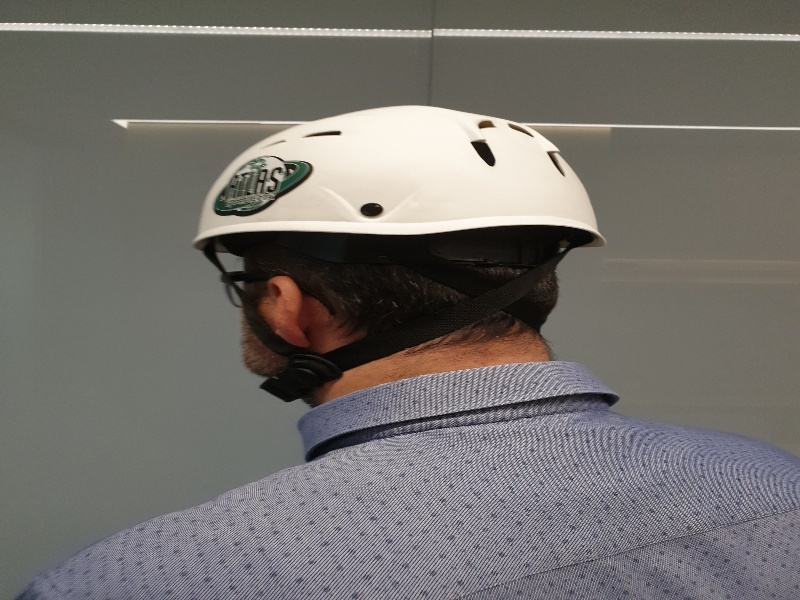Baret: (192, 105, 606, 272)
